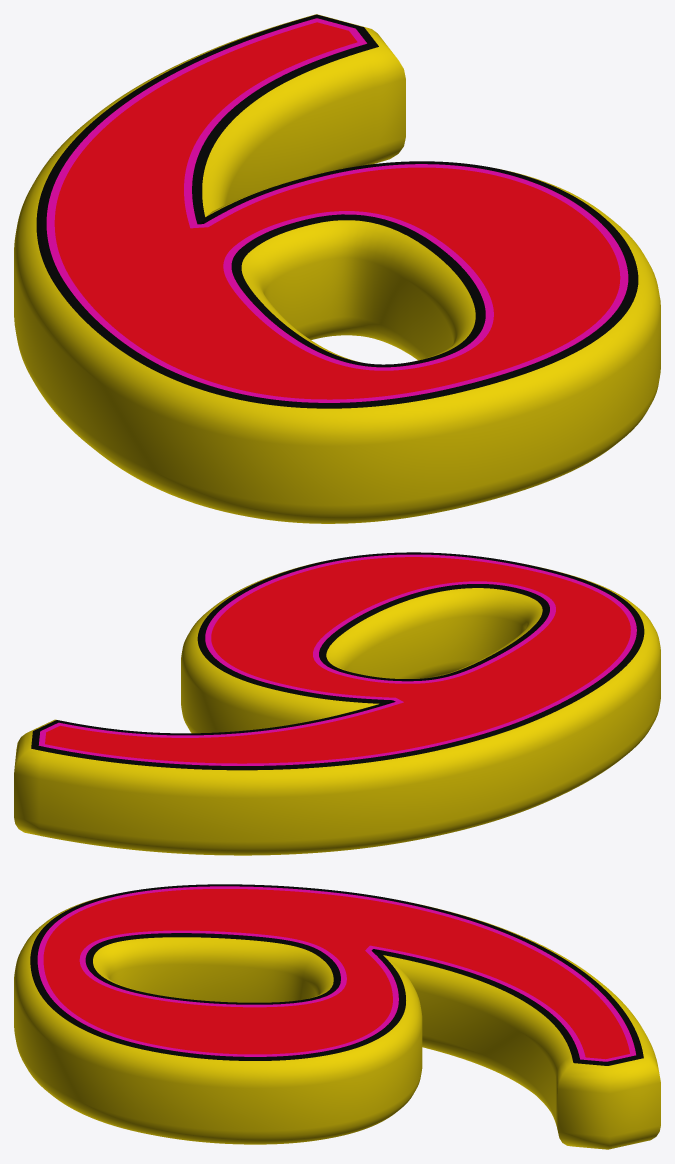
File: Slot_Numbers_Six.fbx
3 views of the same model, one above another, from view 1: azimuth 30°, elevation 25°; view 2: azimuth 150°, elevation 25°; view 3: azimuth 270°, elevation 25° (orthographic). The views are drawn at different scales.
Parts seen in each view (by area): view 1: Six; view 2: Six; view 3: Six.
Part boxes in pixels (x1,y1,x2,y2): Six: (14,14,660,523); Six: (14,552,660,855); Six: (14,884,660,1149).
Size of the model in its own units: 39.26 by 8 by 54.78.
